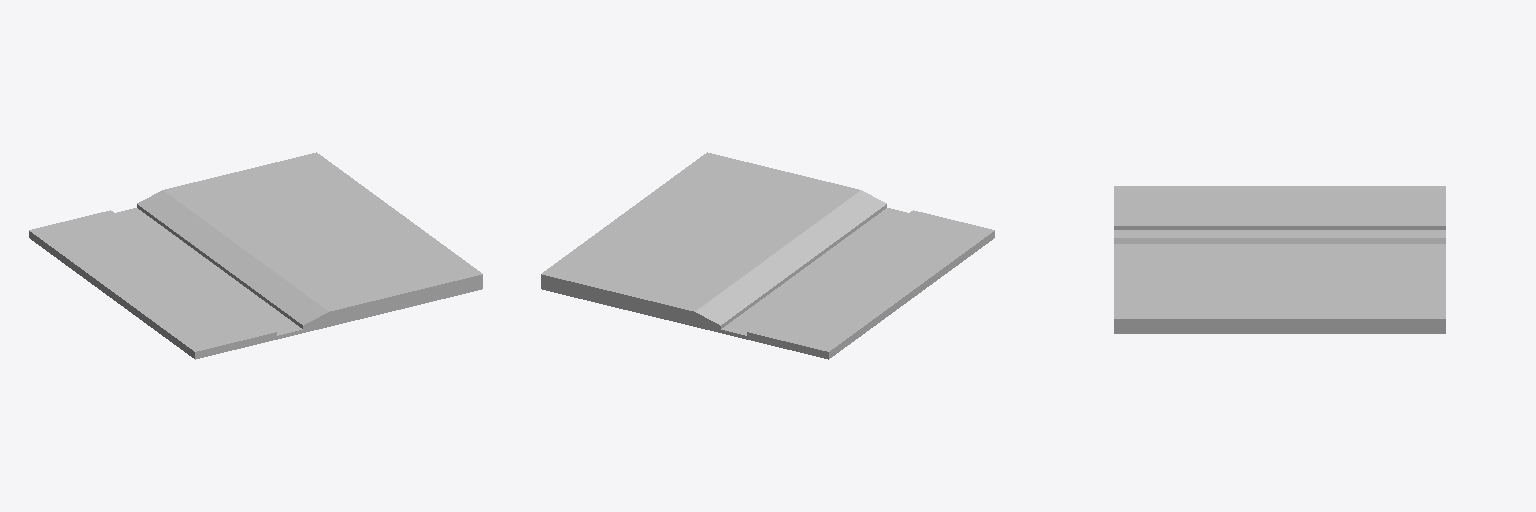
Rendered from road-edge.obj.
3 renders of one model, left to right at view 1: azimuth 30°, elevation 25°; view 2: azimuth 150°, elevation 25°; view 3: azimuth 270°, elevation 25°, orthographic.
Visible parts, largest first — view 1: road-edge; view 2: road-edge; view 3: road-edge.
Boxes of the visible parts, x1=… form: road-edge: x1=29, y1=152, x2=482, y2=359; road-edge: x1=541, y1=152, x2=994, y2=359; road-edge: x1=1114, y1=186, x2=1445, y2=333.
Size of the model in its own units: 1 by 0.05 by 1.